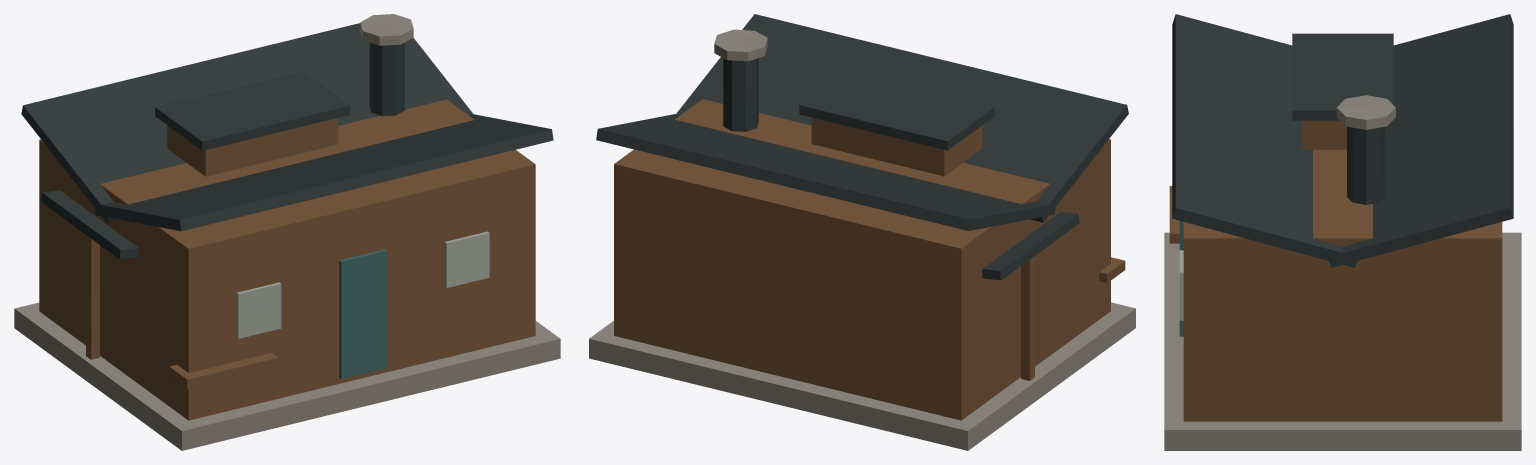
Rendered from maple-syrup-house.source.glb.
The picture shows the model from 3 angles, left to right: view 1: azimuth 30°, elevation 25°; view 2: azimuth 150°, elevation 25°; view 3: azimuth 270°, elevation 25°; orthographic projection. The views are drawn at different scales.
Parts seen in each view (by area): view 1: maple-syrup-house-lean-timber-processing-shell-mesh, maple-syrup-house-shallow-metal-roof--1-mesh, maple-syrup-house-grounded-stone-foundation-mesh, maple-syrup-house-shallow-metal-roof-1-mesh, maple-syrup-house-raised-roof-vent-cap-mesh, maple-syrup-house-central-muted-teal-entrance-mesh, maple-syrup-house-raised-roof-vent-base-mesh, maple-syrup-house-short-capped-chimney-mesh, maple-syrup-house-covered-side-service-canopy-mesh, maple-syrup-house-modest-front-window-1.65-mesh, maple-syrup-house-modest-front-window--1.65-mesh, maple-syrup-house-fixed-receiving-ledge-mesh (+2 smaller); view 2: maple-syrup-house-lean-timber-processing-shell-mesh, maple-syrup-house-shallow-metal-roof-1-mesh, maple-syrup-house-grounded-stone-foundation-mesh, maple-syrup-house-shallow-metal-roof--1-mesh, maple-syrup-house-raised-roof-vent-cap-mesh, maple-syrup-house-raised-roof-vent-base-mesh, maple-syrup-house-short-capped-chimney-mesh, maple-syrup-house-covered-side-service-canopy-mesh, maple-syrup-house-covered-service-post--2.85-mesh, maple-syrup-house-restrained-chimney-cap-mesh; view 3: maple-syrup-house-lean-timber-processing-shell-mesh, maple-syrup-house-shallow-metal-roof-1-mesh, maple-syrup-house-shallow-metal-roof--1-mesh, maple-syrup-house-grounded-stone-foundation-mesh, maple-syrup-house-raised-roof-vent-cap-mesh, maple-syrup-house-short-capped-chimney-mesh, maple-syrup-house-restrained-chimney-cap-mesh, maple-syrup-house-raised-roof-vent-base-mesh, maple-syrup-house-fixed-receiving-ledge-mesh.
Part boxes in pixels (x1=…): maple-syrup-house-lean-timber-processing-shell-mesh: x1=39, y1=99, x2=535, y2=420; maple-syrup-house-shallow-metal-roof--1-mesh: x1=21, y1=23, x2=473, y2=222; maple-syrup-house-grounded-stone-foundation-mesh: x1=14, y1=302, x2=560, y2=450; maple-syrup-house-shallow-metal-roof-1-mesh: x1=94, y1=114, x2=553, y2=231; maple-syrup-house-raised-roof-vent-cap-mesh: x1=155, y1=71, x2=350, y2=150; maple-syrup-house-central-muted-teal-entrance-mesh: x1=339, y1=249, x2=386, y2=379; maple-syrup-house-raised-roof-vent-base-mesh: x1=167, y1=118, x2=338, y2=176; maple-syrup-house-short-capped-chimney-mesh: x1=369, y1=42, x2=404, y2=116; maple-syrup-house-covered-side-service-canopy-mesh: x1=41, y1=190, x2=138, y2=259; maple-syrup-house-modest-front-window-1.65-mesh: x1=444, y1=231, x2=489, y2=287; maple-syrup-house-modest-front-window--1.65-mesh: x1=236, y1=282, x2=281, y2=338; maple-syrup-house-fixed-receiving-ledge-mesh: x1=169, y1=353, x2=278, y2=388; maple-syrup-house-lean-timber-processing-shell-mesh: x1=614, y1=99, x2=1110, y2=420; maple-syrup-house-shallow-metal-roof-1-mesh: x1=676, y1=14, x2=1128, y2=222; maple-syrup-house-grounded-stone-foundation-mesh: x1=589, y1=302, x2=1135, y2=450; maple-syrup-house-shallow-metal-roof--1-mesh: x1=596, y1=114, x2=1055, y2=230; maple-syrup-house-raised-roof-vent-cap-mesh: x1=799, y1=70, x2=994, y2=150; maple-syrup-house-raised-roof-vent-base-mesh: x1=811, y1=117, x2=982, y2=176; maple-syrup-house-short-capped-chimney-mesh: x1=723, y1=58, x2=758, y2=131; maple-syrup-house-covered-side-service-canopy-mesh: x1=982, y1=211, x2=1079, y2=280; maple-syrup-house-covered-service-post--2.85-mesh: x1=1021, y1=256, x2=1034, y2=380; maple-syrup-house-restrained-chimney-cap-mesh: x1=714, y1=29, x2=767, y2=61; maple-syrup-house-lean-timber-processing-shell-mesh: x1=1183, y1=149, x2=1502, y2=421; maple-syrup-house-shallow-metal-roof-1-mesh: x1=1172, y1=14, x2=1357, y2=267; maple-syrup-house-shallow-metal-roof--1-mesh: x1=1328, y1=14, x2=1513, y2=267; maple-syrup-house-grounded-stone-foundation-mesh: x1=1164, y1=232, x2=1521, y2=450; maple-syrup-house-raised-roof-vent-cap-mesh: x1=1292, y1=33, x2=1393, y2=120; maple-syrup-house-short-capped-chimney-mesh: x1=1347, y1=126, x2=1385, y2=204; maple-syrup-house-restrained-chimney-cap-mesh: x1=1336, y1=95, x2=1395, y2=129; maple-syrup-house-raised-roof-vent-base-mesh: x1=1302, y1=120, x2=1346, y2=149; maple-syrup-house-fixed-receiving-ledge-mesh: x1=1169, y1=186, x2=1179, y2=243.
Size of the model in its own units: 6.05 by 4.29 by 4.6.
